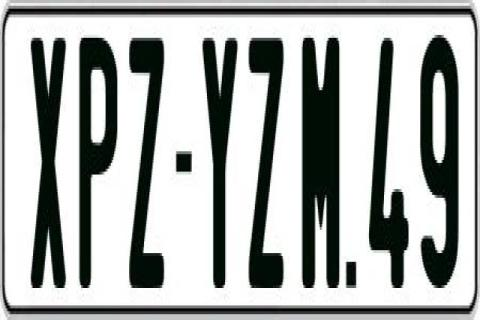0: (418, 27, 462, 280), (366, 38, 406, 297)
M: (301, 38, 341, 302)
P: (78, 29, 121, 288)
X: (31, 29, 68, 285)
Y: (204, 35, 242, 288)
Z: (249, 29, 289, 279), (128, 38, 163, 291)
